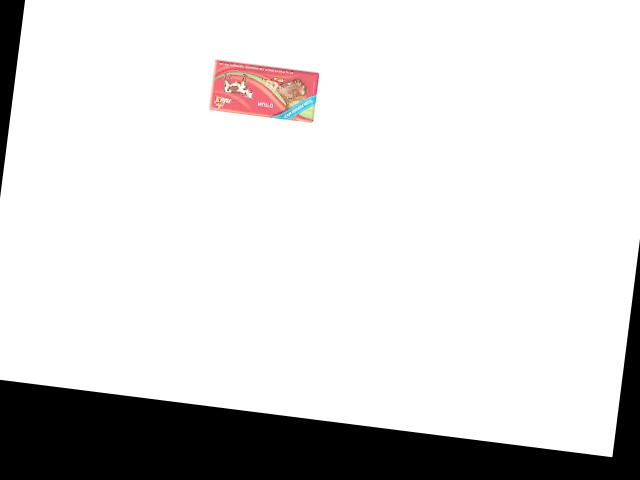chocolate: (204, 60, 318, 123)
